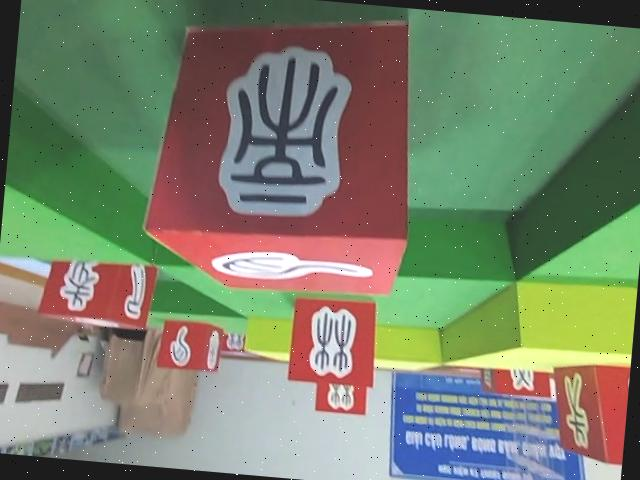R2 Fake: (133, 0, 429, 305), (33, 245, 160, 334), (547, 356, 631, 469), (283, 294, 380, 390), (157, 312, 220, 374)
